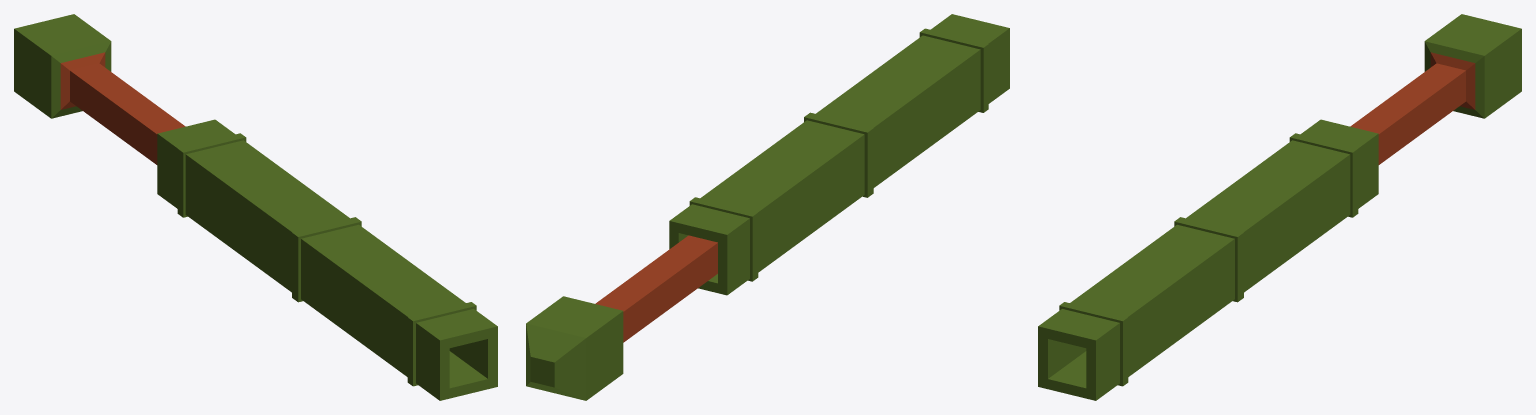
The model's file is Test_Pletokan.fbx.
The picture shows the model from 3 angles, left to right: view 1: azimuth 30°, elevation 25°; view 2: azimuth 150°, elevation 25°; view 3: azimuth 330°, elevation 25°; orthographic projection.
Visible parts, largest first — view 1: Pletokan; view 2: Pletokan; view 3: Pletokan.
Boxes of the visible parts, left/top/right/bottom form: Pletokan: left=14, top=14, right=497, bottom=400; Pletokan: left=526, top=14, right=1009, bottom=400; Pletokan: left=1038, top=14, right=1521, bottom=400.
Bounding box in the file's own units: 13.74 × 13.44 × 164.
